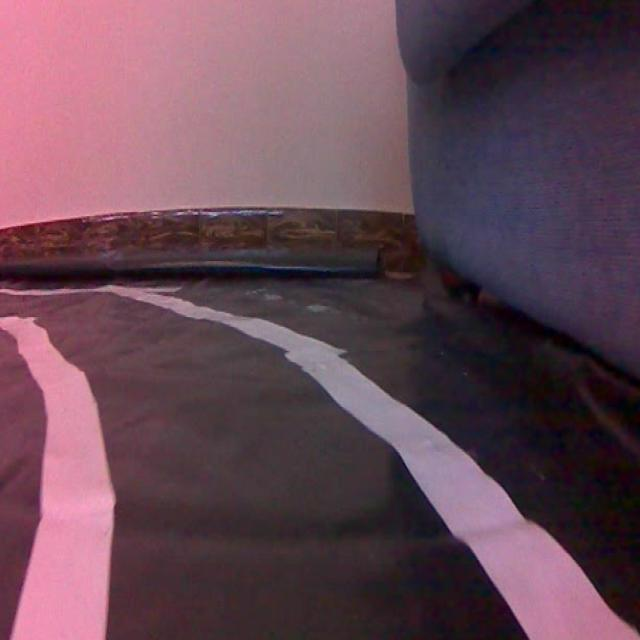LineaCarril: (90, 286, 640, 640), (98, 286, 640, 640), (0, 315, 115, 640)
